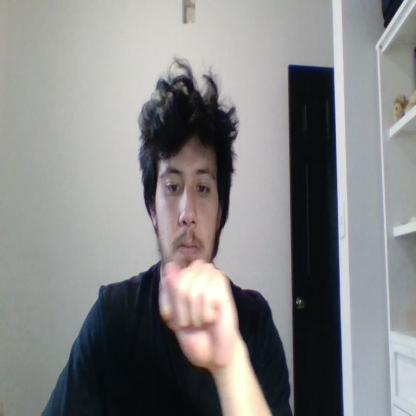T: (158, 257, 240, 371)
